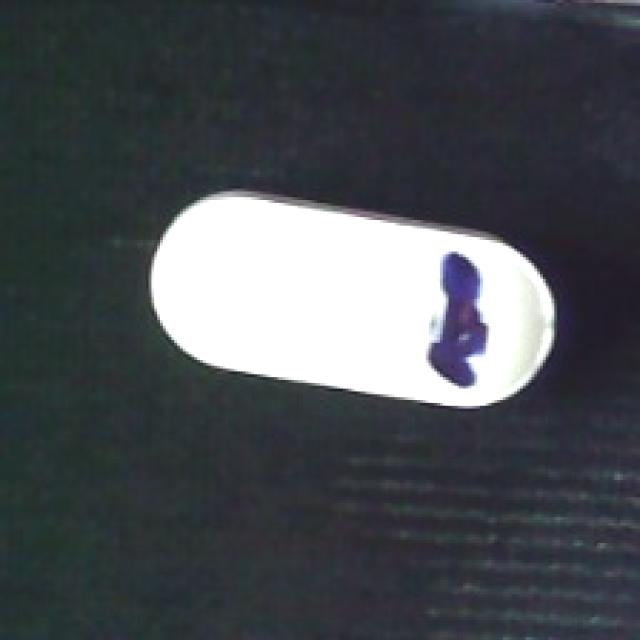defected: (146, 189, 574, 411)
